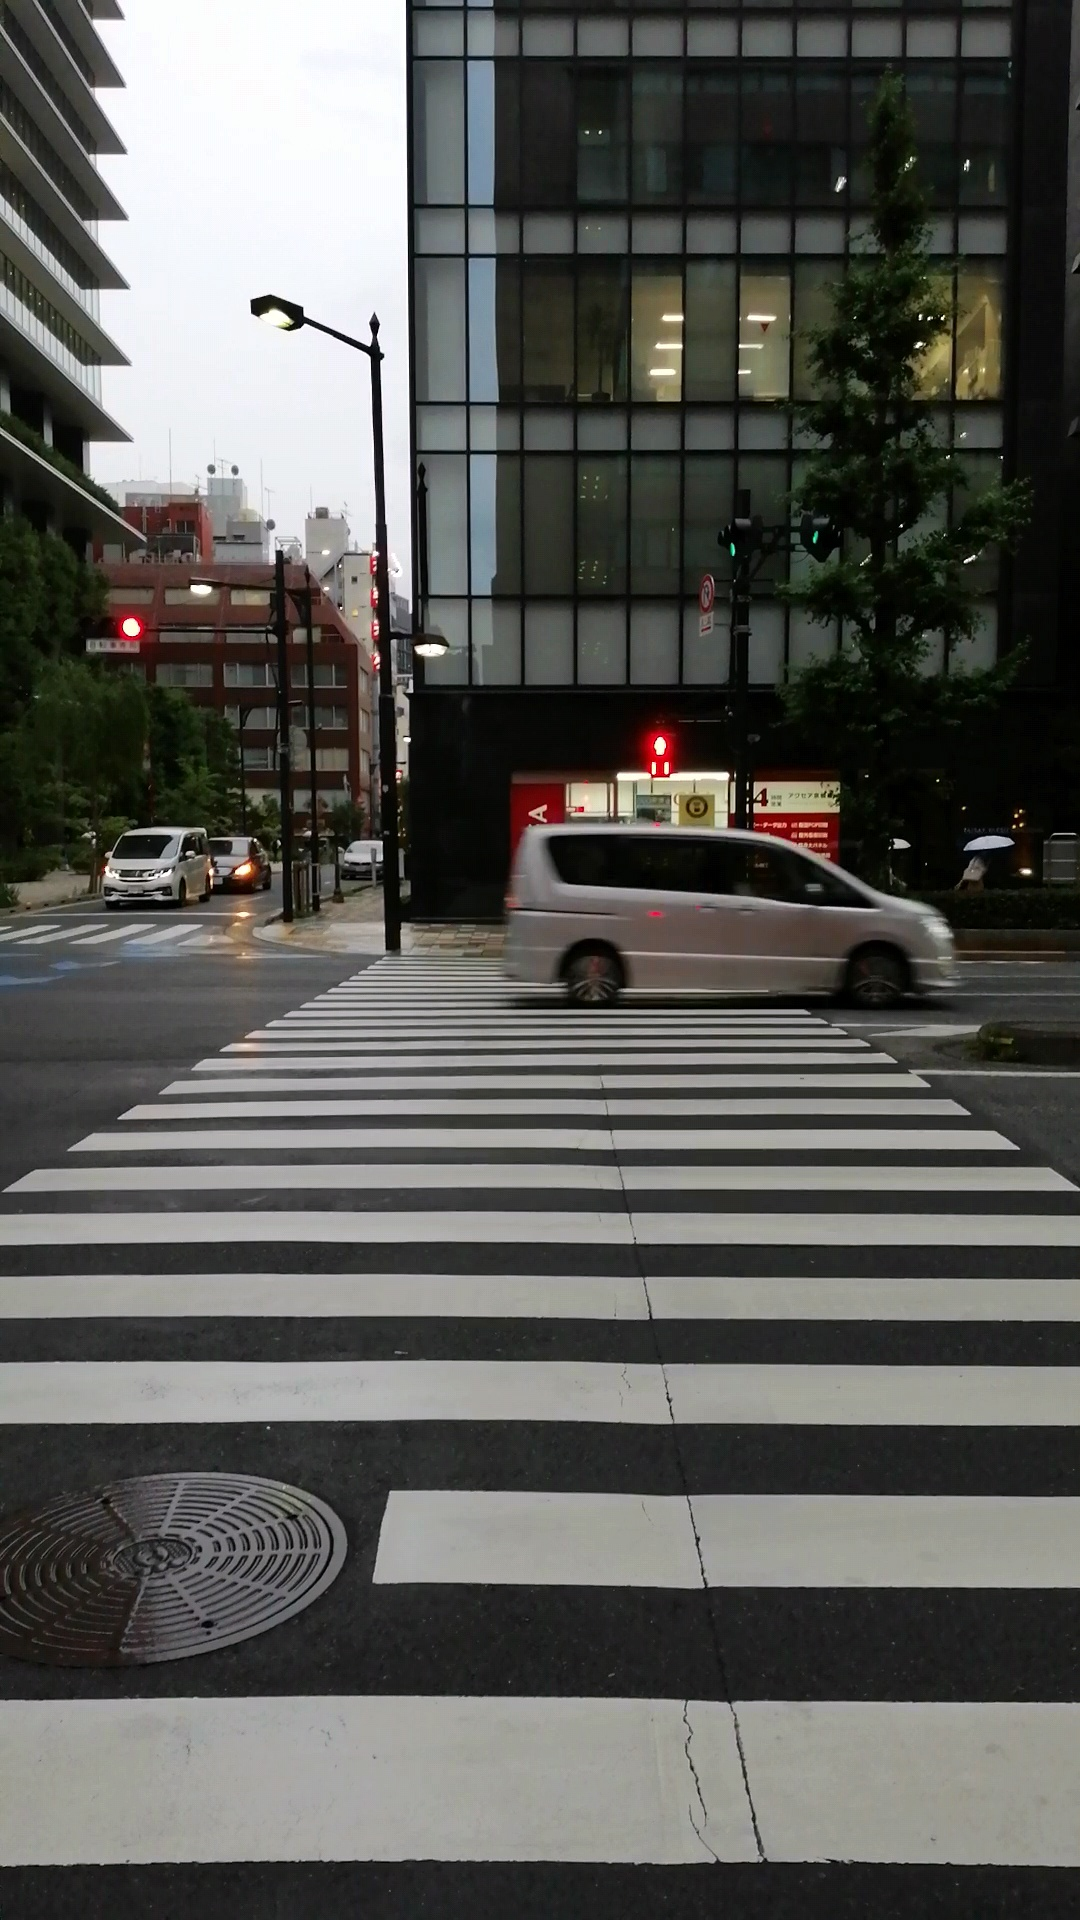red: (644, 727, 673, 779)
